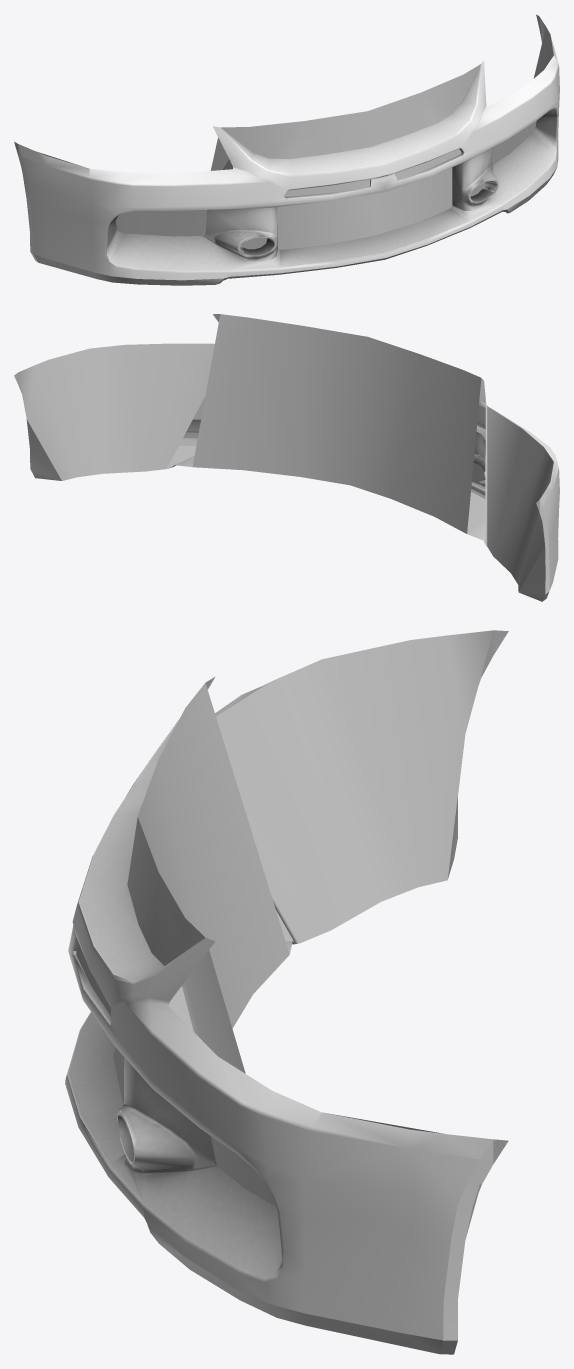
The model's file is Sport_2_Bumper_F_1.fbx.
3 views of the same model, one above another, from view 1: azimuth 30°, elevation 25°; view 2: azimuth 150°, elevation 25°; view 3: azimuth 270°, elevation 25° (orthographic). The views are drawn at different scales.
Visible parts, largest first — view 1: Sport_2_Bumper_F_1; view 2: Sport_2_Bumper_F_1; view 3: Sport_2_Bumper_F_1.
Part boxes in pixels (left/top/right/bottom): Sport_2_Bumper_F_1: left=14, top=14, right=559, bottom=285; Sport_2_Bumper_F_1: left=14, top=314, right=559, bottom=601; Sport_2_Bumper_F_1: left=65, top=630, right=508, bottom=1354.
Bounding box in the file's own units: 183 × 49.81 × 67.19.
